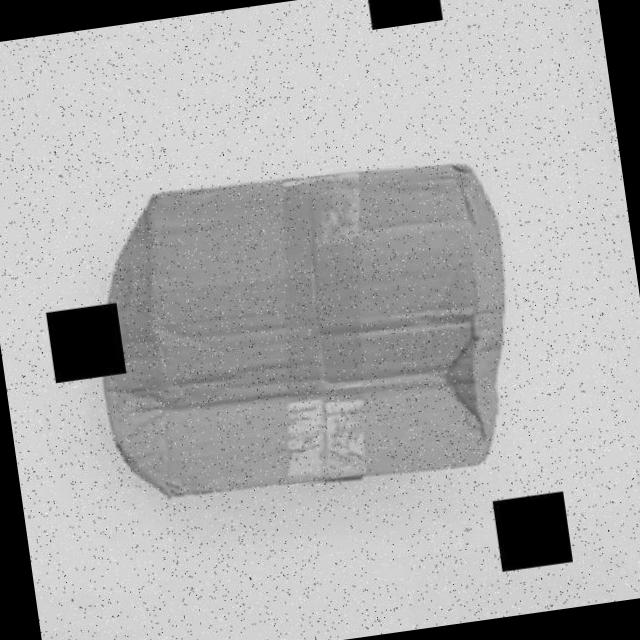box: (69, 148, 534, 518)
